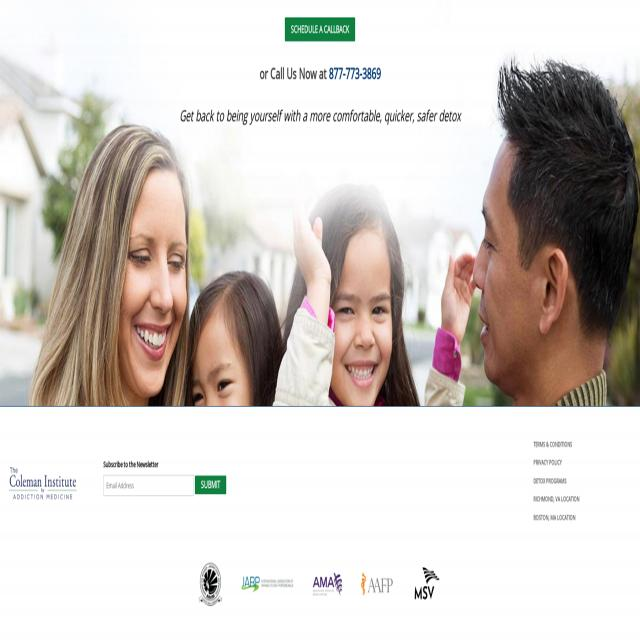button: (9, 449, 77, 518), (235, 564, 299, 605), (406, 556, 448, 612), (355, 560, 399, 608), (192, 556, 228, 612), (306, 562, 348, 606), (285, 17, 355, 41), (195, 476, 226, 494)
field: (103, 475, 194, 496)
